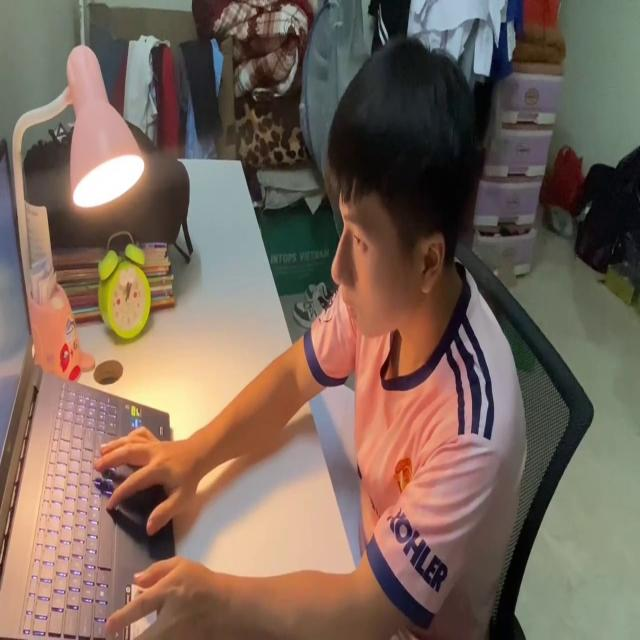book: (307, 377, 363, 571)
laptop: (1, 130, 182, 640)
student: (89, 28, 524, 640)
